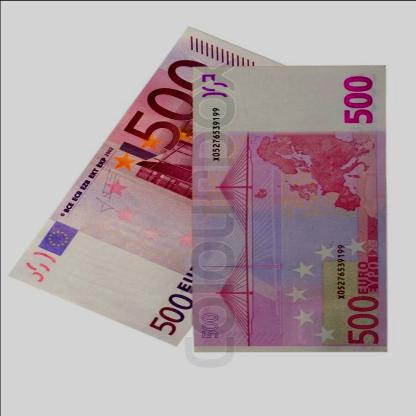euro_banknote: (5, 81, 304, 270), (148, 113, 416, 308)
